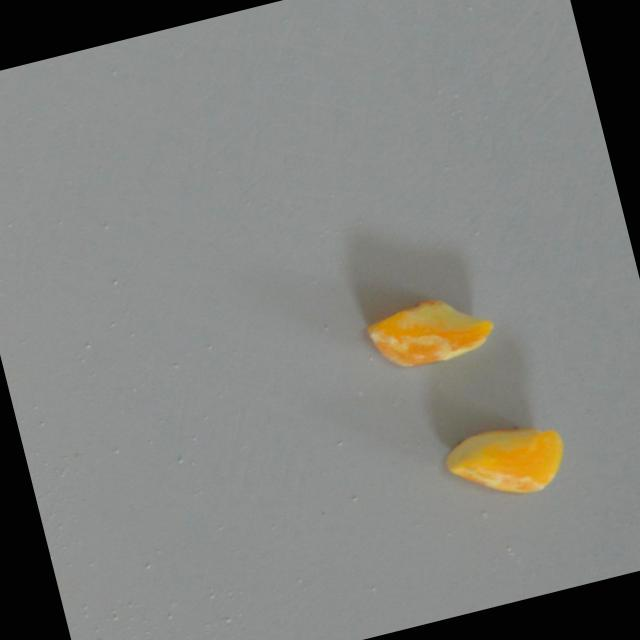dañado: (436, 409, 572, 512), (357, 283, 500, 379)
